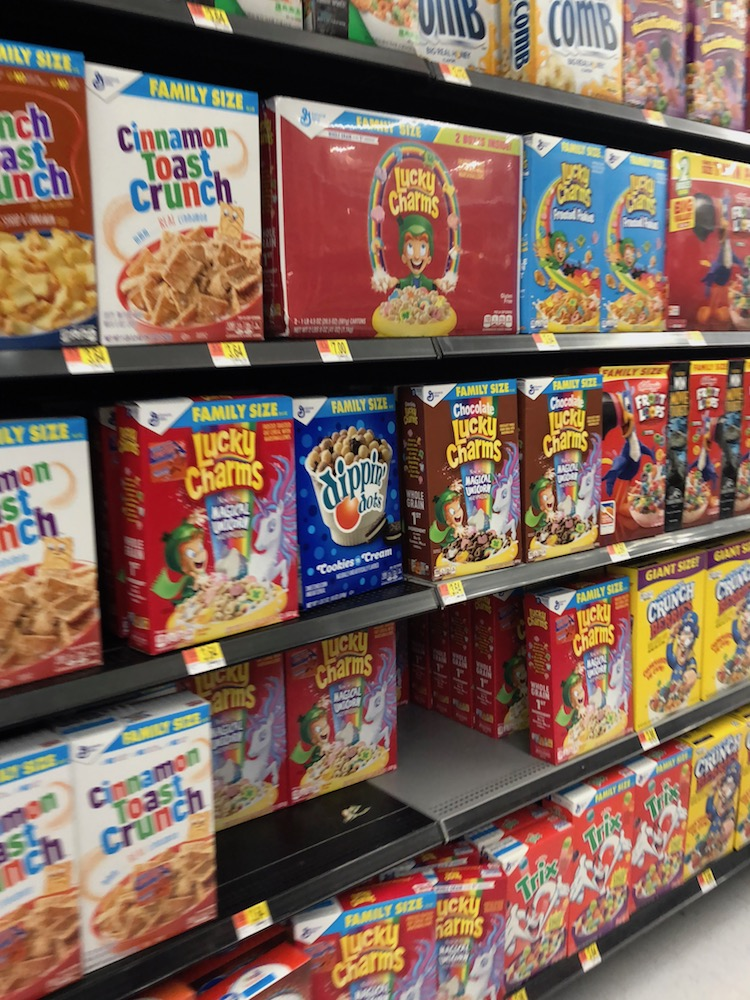Dippin Dots Cookies & Cream -568929378: (305, 399, 417, 617)
